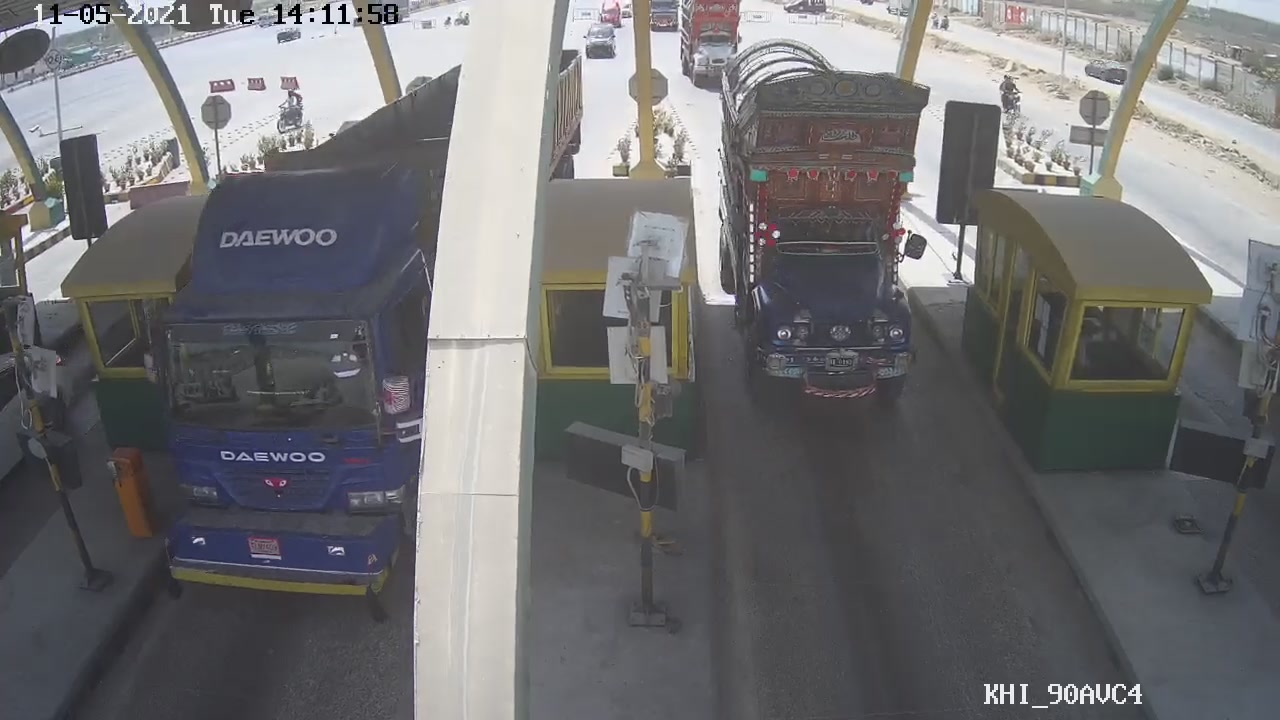F5: (716, 41, 937, 417)
